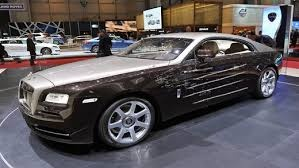Broken-glass: (118, 38, 195, 61)
Dent: (108, 74, 155, 92)
Scratch: (182, 62, 252, 108), (156, 70, 182, 87)
